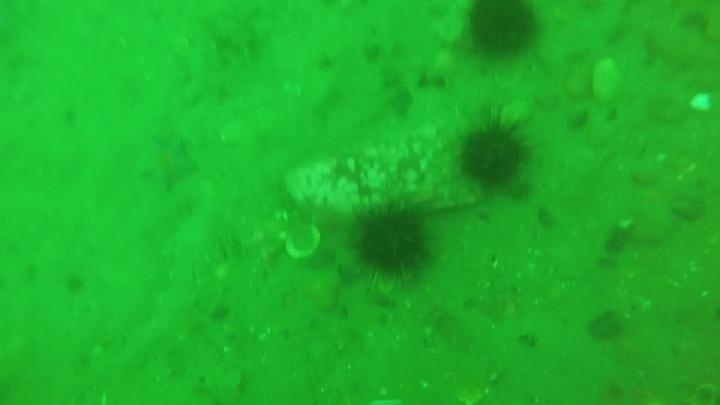echinus: (351, 204, 434, 283), (456, 115, 532, 191), (464, 1, 541, 59)
starfish: (136, 137, 199, 194)
